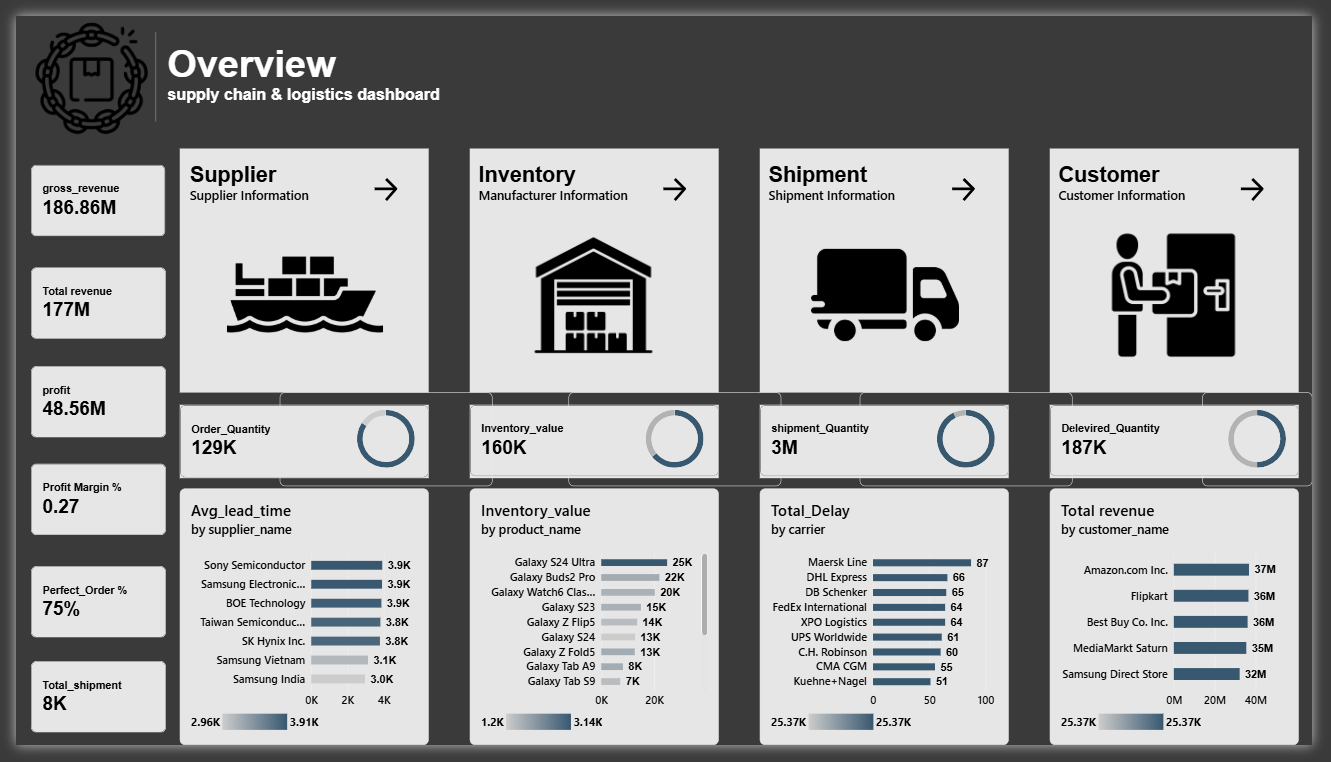

The page's visual inventory and layout, read from the dashboard file:
{"tool":"powerbi","page":{"name":"Page 1","canvas":[1920,1080],"ordinal":0},"visuals":[{"type":"shape","box":[1531,195.4,369.2,361.9],"z":0},{"type":"shape","box":[242.5,195.4,369.2,361.9],"z":1000},{"type":"shape","box":[671.4,195.4,369.2,361.9],"z":2000},{"type":"shape","box":[1102.1,195.4,369.2,361.9],"z":3000},{"type":"actionButton","box":[496.1,234.6,100.9,39.1],"z":4000},{"type":"actionButton","box":[1780.5,234.6,100.9,39.1],"z":5000},{"type":"actionButton","box":[1352.3,234.6,100.9,39.1],"z":6000},{"type":"actionButton","box":[924.2,234.6,100.9,39.1],"z":7000},{"type":"image","box":[276.9,287.7,300.4,251.5],"z":8000},{"type":"image","box":[705.8,320.3,300.4,186.4],"z":9000},{"type":"image","box":[1136.5,304,300.4,219],"z":10000},{"type":"image","box":[1565.4,320.3,300.4,186.4],"z":11000},{"type":"textbox","box":[257,217.2,211.7,128.5],"z":12000},{"type":"textbox","box":[685.9,217.2,340.2,86.9],"z":13000},{"type":"textbox","box":[1114.8,217.2,219,86.9],"z":14000},{"type":"textbox","box":[1543.6,217.2,237.1,103.2],"z":15000},{"type":"textbox","box":[224.4,38,419.8,117.6],"z":16000},{"type":"image","box":[0,9,224.4,166.5],"z":17000},{"type":"shape","box":[21.7,23.5,369.2,132.1],"z":18000},{"type":"cardVisual","fields":{"Data":["fact_sales.Total revenue"]},"box":[21.7,372.4,200.9,106.8],"z":19000},{"type":"cardVisual","fields":{"Data":["fact_sales.Perfect_Order %"]},"box":[21.7,814,200.9,106.8],"z":20000},{"type":"cardVisual","fields":{"Data":["Sum(fact_sales.profit)"]},"box":[21.7,519,200.9,106.8],"z":21000},{"type":"cardVisual","fields":{"Data":["fact_sales.Profit Margin %"]},"box":[21.7,663.8,200.9,106.8],"z":22000},{"type":"cardVisual","fields":{"Data":["Sum(fact_sales.gross_revenue)"]},"box":[21.7,220.4,199.1,106.8],"z":23000},{"type":"cardVisual","fields":{"Data":["fact_sales.Total_shipment"]},"box":[21.7,955.1,200.9,106.8],"z":24000},{"type":"shape","box":[242.5,575.5,369.2,108.6],"z":25000},{"type":"shape","box":[1531,575.5,369.2,108.6],"z":26000},{"type":"shape","box":[1102.1,575.5,369.2,108.6],"z":27000},{"type":"shape","box":[671.4,575.5,369.2,108.6],"z":28000},{"type":"cardVisual","fields":{"Data":["fact_production.Order_QIY"]},"box":[242.5,575.5,369.2,108.6],"z":29000},{"type":"cardVisual","fields":{"Data":["fact_sales.Inventory_value"]},"box":[671.4,575.5,369.2,106.8],"z":30000},{"type":"cardVisual","fields":{"Data":["fact_sales.Total_shipment_Quantity"]},"box":[1102.1,575.5,369.2,106.8],"z":31000},{"type":"cardVisual","fields":{"Data":["fact_sales.total_Delevired_Quantity"]},"box":[1531,575.5,369.2,106.8],"z":32000},{"type":"clusteredBarChart","fields":{"Category":["dim_supplier.supplier_name"],"Y":["fact_sales.Avg_lead_time"]},"box":[242.5,700.3,369.2,380],"z":33000},{"type":"clusteredBarChart","fields":{"Category":["dim_product.product_name"],"Y":["fact_sales.Inventory_value"]},"box":[671.4,700.3,369.2,380],"z":34000},{"type":"clusteredBarChart","fields":{"Category":["fact_shipment.carrier"],"Y":["fact_sales.Total_Delay"]},"box":[1102.1,700.3,369.2,380],"z":35000},{"type":"clusteredBarChart","fields":{"Category":["dim_customer.customer_name"],"Y":["fact_sales.Total revenue"]},"box":[1531,700.3,369.2,380],"z":36000},{"type":"donutChart","fields":{"Y":["fact_sales.Inventory_value","fact_inventory.Safety_Stock"]},"box":[818,557.4,314.9,139.3],"z":37000},{"type":"donutChart","fields":{"Y":["fact_sales.Total_shipment","fact_sales.Total_Delay"]},"box":[1250.5,557.4,314.9,139.3],"z":38000},{"type":"donutChart","fields":{"Y":["fact_sales.total_Delevired_Quantity","fact_sales.Total_Qry_Delay"]},"box":[1757.2,557.4,162.9,139.3],"z":39000},{"type":"donutChart","fields":{"Y":["Sum(fact_procurement.order_quantity)","fact_production.Defect_rate"]},"box":[390.9,557.4,314.9,139.3],"z":40000}]}

Visuals, with their boxes in screenshot pixels (x1, y1, x2, y2), scaled from the page's 1920x1080 canvas onto the 1331x762 screenshot:
shape: (1061, 138, 1317, 393)
shape: (168, 138, 424, 393)
shape: (465, 138, 721, 393)
shape: (764, 138, 1020, 393)
actionButton: (344, 166, 414, 193)
actionButton: (1234, 166, 1304, 193)
actionButton: (937, 166, 1007, 193)
actionButton: (641, 166, 711, 193)
image: (192, 203, 400, 380)
image: (489, 226, 698, 358)
image: (788, 214, 996, 369)
image: (1085, 226, 1293, 358)
textbox: (178, 153, 325, 244)
textbox: (475, 153, 711, 215)
textbox: (773, 153, 925, 215)
textbox: (1070, 153, 1234, 226)
textbox: (156, 27, 447, 110)
image: (0, 6, 156, 124)
shape: (15, 17, 271, 110)
cardVisual - fact_sales.Total revenue: (15, 263, 154, 338)
cardVisual - fact_sales.Perfect_Order %: (15, 574, 154, 650)
cardVisual - Sum(fact_sales.profit): (15, 366, 154, 442)
cardVisual - fact_sales.Profit Margin %: (15, 468, 154, 544)
cardVisual - Sum(fact_sales.gross_revenue): (15, 156, 153, 231)
cardVisual - fact_sales.Total_shipment: (15, 674, 154, 749)
shape: (168, 406, 424, 483)
shape: (1061, 406, 1317, 483)
shape: (764, 406, 1020, 483)
shape: (465, 406, 721, 483)
cardVisual - fact_production.Order_QIY: (168, 406, 424, 483)
cardVisual - fact_sales.Inventory_value: (465, 406, 721, 481)
cardVisual - fact_sales.Total_shipment_Quantity: (764, 406, 1020, 481)
cardVisual - fact_sales.total_Delevired_Quantity: (1061, 406, 1317, 481)
clusteredBarChart - dim_supplier.supplier_name x fact_sales.Avg_lead_time: (168, 494, 424, 761)
clusteredBarChart - dim_product.product_name x fact_sales.Inventory_value: (465, 494, 721, 761)
clusteredBarChart - fact_shipment.carrier x fact_sales.Total_Delay: (764, 494, 1020, 761)
clusteredBarChart - dim_customer.customer_name x fact_sales.Total revenue: (1061, 494, 1317, 761)
donutChart - fact_sales.Inventory_value x fact_inventory.Safety_Stock: (567, 393, 785, 492)
donutChart - fact_sales.Total_shipment x fact_sales.Total_Delay: (867, 393, 1085, 492)
donutChart - fact_sales.total_Delevired_Quantity x fact_sales.Total_Qry_Delay: (1218, 393, 1330, 492)
donutChart - Sum(fact_procurement.order_quantity) x fact_production.Defect_rate: (271, 393, 489, 492)
